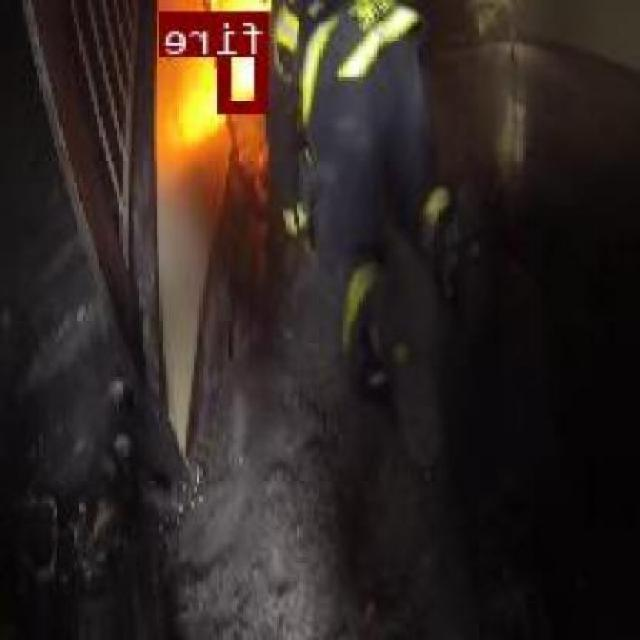Fire: (222, 9, 270, 111)
